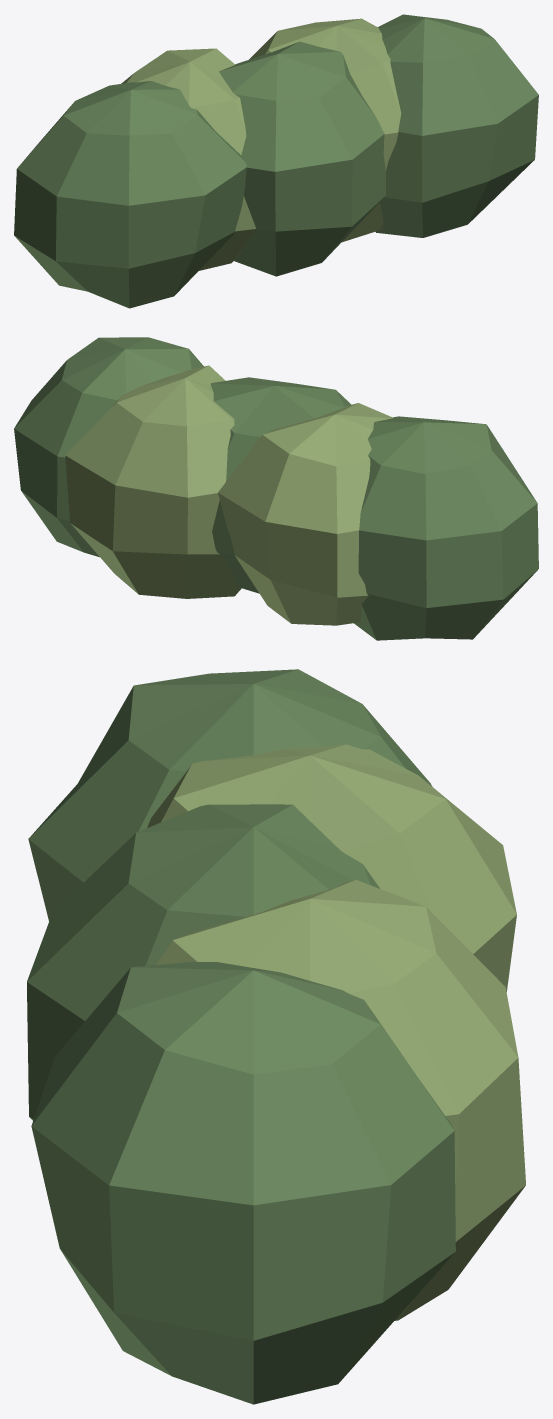
File: SM_Shrub.glb
3 views of the same model, one above another, from view 1: azimuth 30°, elevation 25°; view 2: azimuth 150°, elevation 25°; view 3: azimuth 270°, elevation 25° (orthographic). The views are drawn at different scales.
Visible parts, largest first — view 1: SM_Shrub; view 2: SM_Shrub; view 3: SM_Shrub.
Boxes of the visible parts, bbox=[...] form: SM_Shrub: bbox=[14, 14, 538, 308]; SM_Shrub: bbox=[14, 337, 538, 640]; SM_Shrub: bbox=[27, 669, 525, 1404].
Bounding box in the file's own units: 2.02 × 0.8 × 0.8837.
